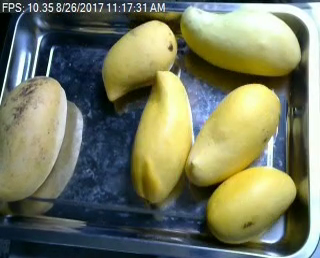Mango: (187, 84, 281, 185), (181, 6, 301, 77), (0, 76, 65, 201), (131, 71, 192, 201), (205, 167, 298, 244), (102, 21, 177, 99)
